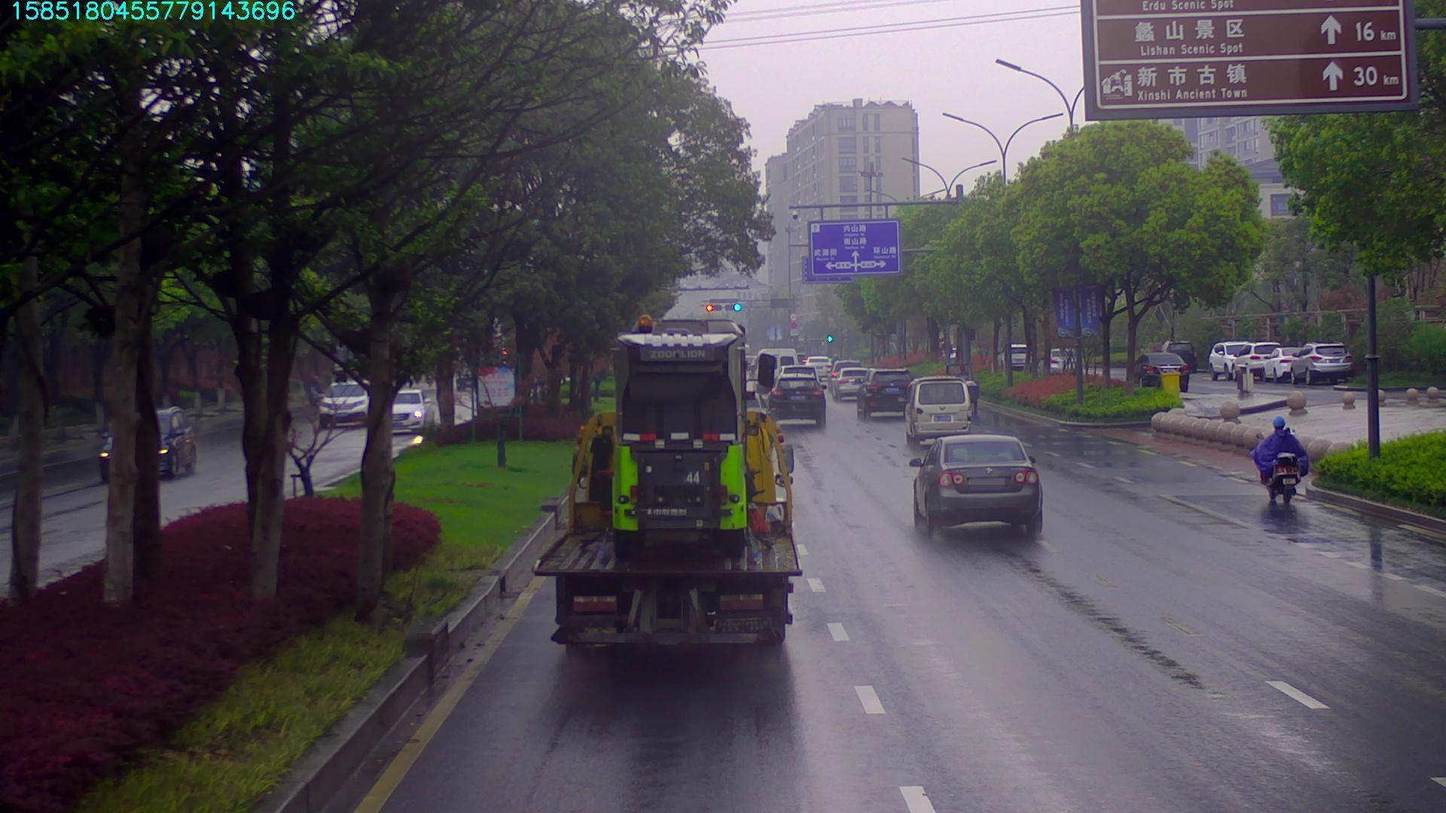green: (724, 303, 746, 315)
red: (703, 302, 724, 312)
